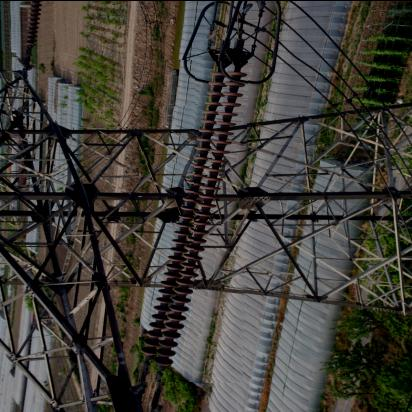insulator: (142, 60, 249, 382)
